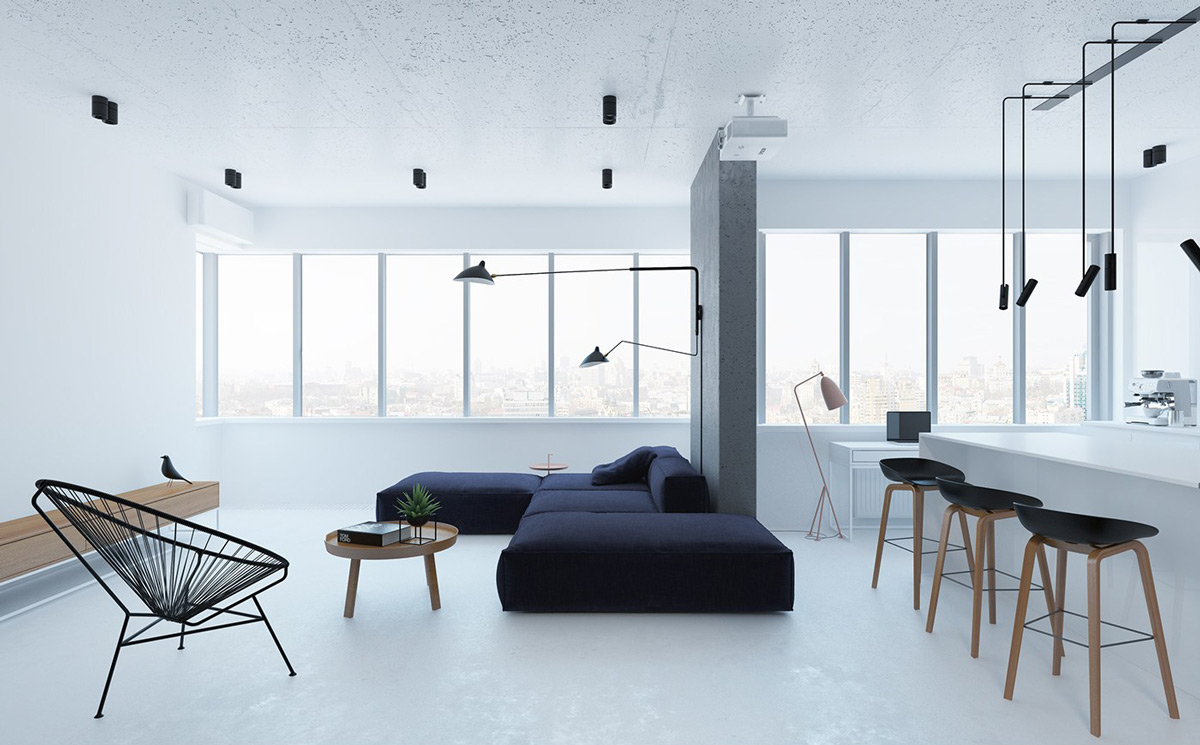chair: (28, 478, 300, 718)
dining table set: (868, 425, 1200, 739)
floor lamp: (792, 368, 854, 543)
small plant: (395, 485, 442, 543)
sofa: (373, 441, 799, 617)
table: (321, 519, 461, 622)
